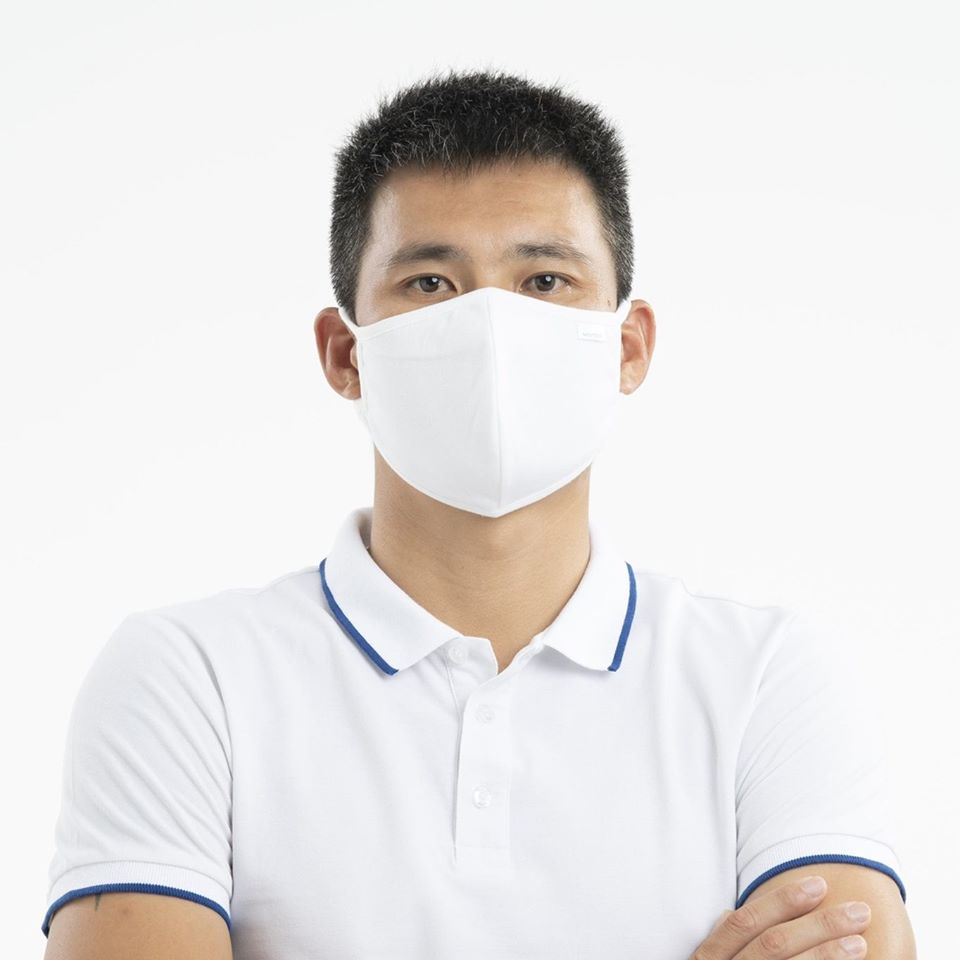with_mask: (306, 113, 675, 504)
